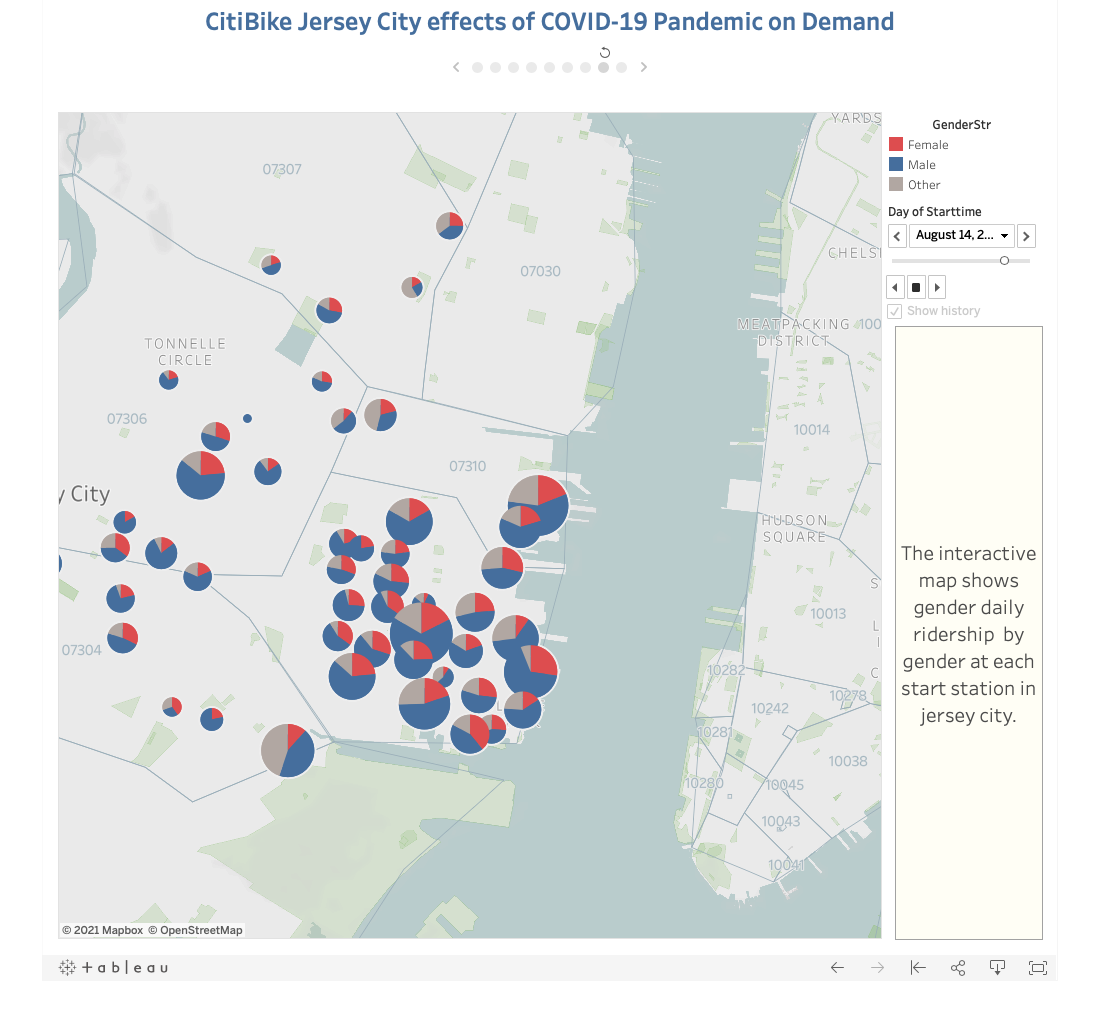

The dashboard page shown, as its layout file describes it:
{"tool":"tableau","page":{"name":"CitiBike Gender Pre Post Covid","canvas":[1000,800],"ordinal":1},"visuals":[{"type":"worksheet","title":"Start Stations by Gender","mark":"Automatic","rows":["Calculation_6304758013794369536"],"cols":["start station name"],"box":[810,19,160,102]},{"type":"worksheet","title":"Start Stations by Gender","mark":"Automatic","rows":["Calculation_6304758013794369536"],"cols":["start station name"],"param":"[federated.0xn84910432jv512tqdmm0lbs3no].[none:Calculation_6304758013797289986:n","box":[655,20,140,78]},{"type":"worksheet","title":"Start Stations by Gender","mark":"Automatic","rows":["Calculation_6304758013794369536"],"cols":["start station name"],"box":[21,30,964,312]},{"type":"worksheet","title":"Top 5 and Gender","mark":"Bar","rows":["Calculation_6304758013797289986"],"cols":["start station name","date"],"box":[22,340,951,303]},{"type":"worksheet","param":"/Users/timsamson/Pictures/Photos Library.photoslibrary/resources/derivatives/mas","box":[79,677,333,106]}]}

Visuals, with their boxes on the page's 1000x800 design canvas (x1, y1, x2, y2). These are canvas units, not pixel positions in the 1096x1012 screenshot, which may show the page scaled, cropped or inside an application window:
"Start Stations by Gender" worksheet: l=810, t=19, r=970, b=121
"Start Stations by Gender" worksheet: l=655, t=20, r=795, b=98
"Start Stations by Gender" worksheet: l=21, t=30, r=985, b=342
"Top 5 and Gender" worksheet (Bar marks): l=22, t=340, r=973, b=643
worksheet: l=79, t=677, r=412, b=783
